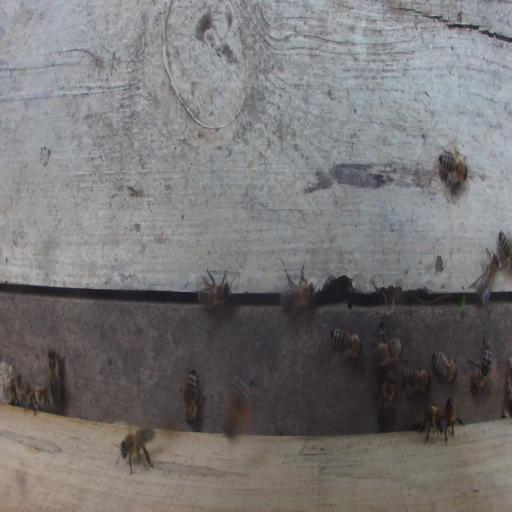nonpollenbee: (280, 262, 320, 316), (467, 247, 502, 306), (197, 267, 239, 310), (118, 424, 156, 469), (464, 334, 493, 392), (369, 325, 403, 367), (436, 147, 469, 190), (329, 326, 364, 366), (417, 403, 449, 446), (401, 358, 432, 399), (46, 348, 66, 407), (376, 369, 397, 425), (183, 369, 203, 425), (443, 396, 466, 440), (430, 351, 458, 385), (23, 386, 50, 418), (498, 228, 511, 268)
